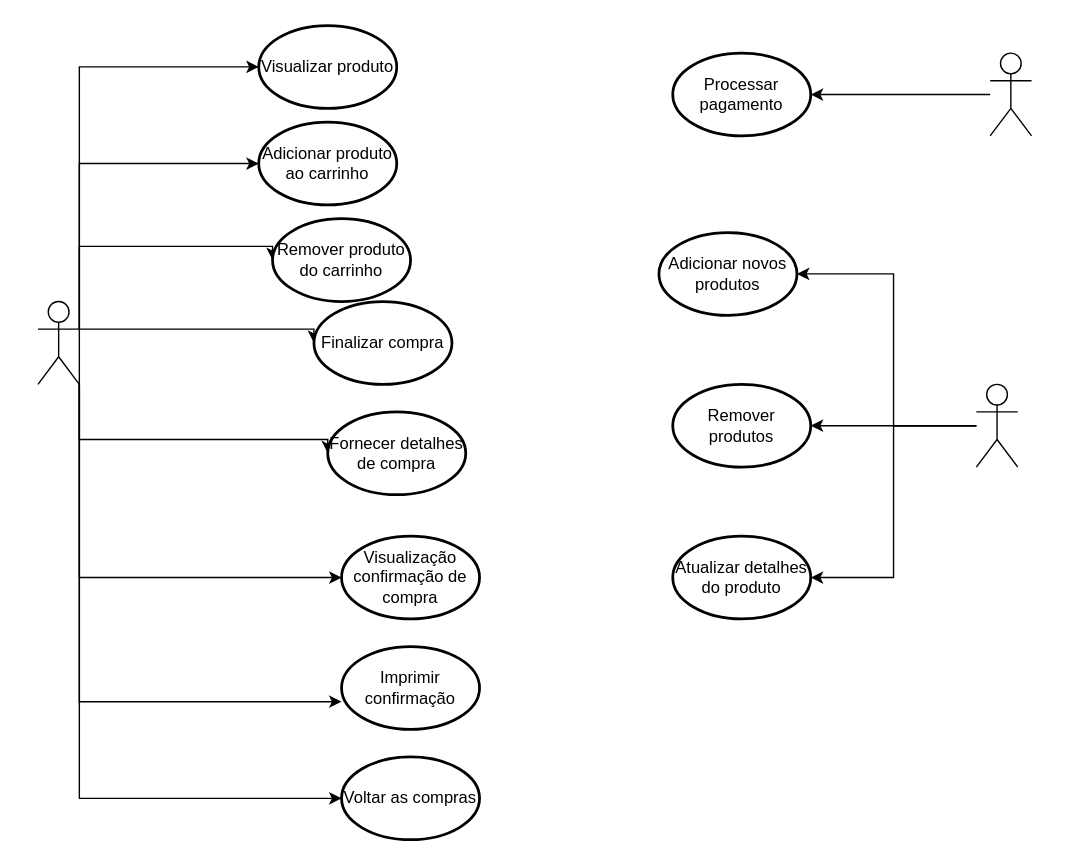
Image size: 1075x864. Some labels were removed from this diagram. The shapes that lost their labels are listed below. From the top down, each one's box as (x1, y1, x2, y2) in pixels, then its label:
(989, 52, 1032, 136): financeiroo
(37, 300, 79, 384): CLIENTE
(975, 383, 1018, 467): Admin
